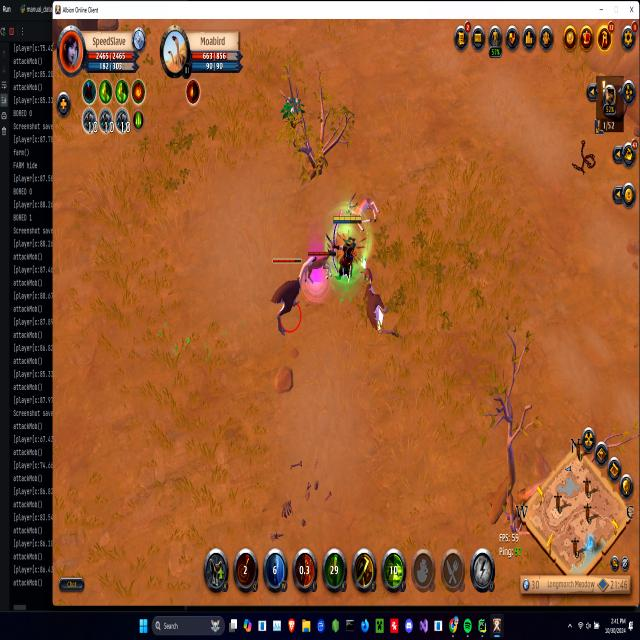hide: (280, 90, 304, 126)
mob: (360, 269, 402, 341), (344, 189, 381, 236)
ore: (269, 253, 307, 337), (303, 244, 336, 286)
red: (332, 211, 359, 282)
